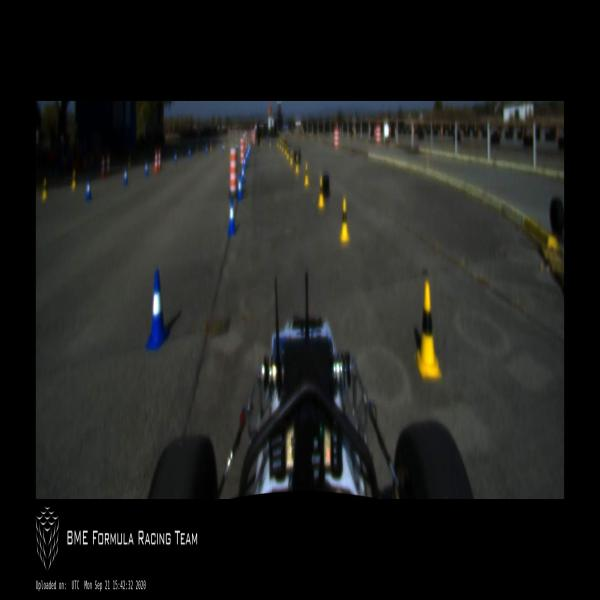blue_cone: (228, 198, 235, 235), (237, 173, 243, 202), (85, 178, 92, 201), (124, 166, 128, 186), (144, 159, 148, 177), (241, 166, 245, 183), (243, 156, 246, 170)
large_orange_cone: (100, 154, 106, 178), (153, 148, 158, 172), (157, 148, 162, 172), (107, 152, 110, 178)
yellow_cone: (415, 282, 443, 380), (340, 196, 350, 242), (318, 177, 325, 207), (41, 176, 47, 200), (71, 169, 76, 189), (304, 163, 308, 186), (296, 154, 300, 174), (290, 150, 294, 164), (286, 146, 289, 160)
